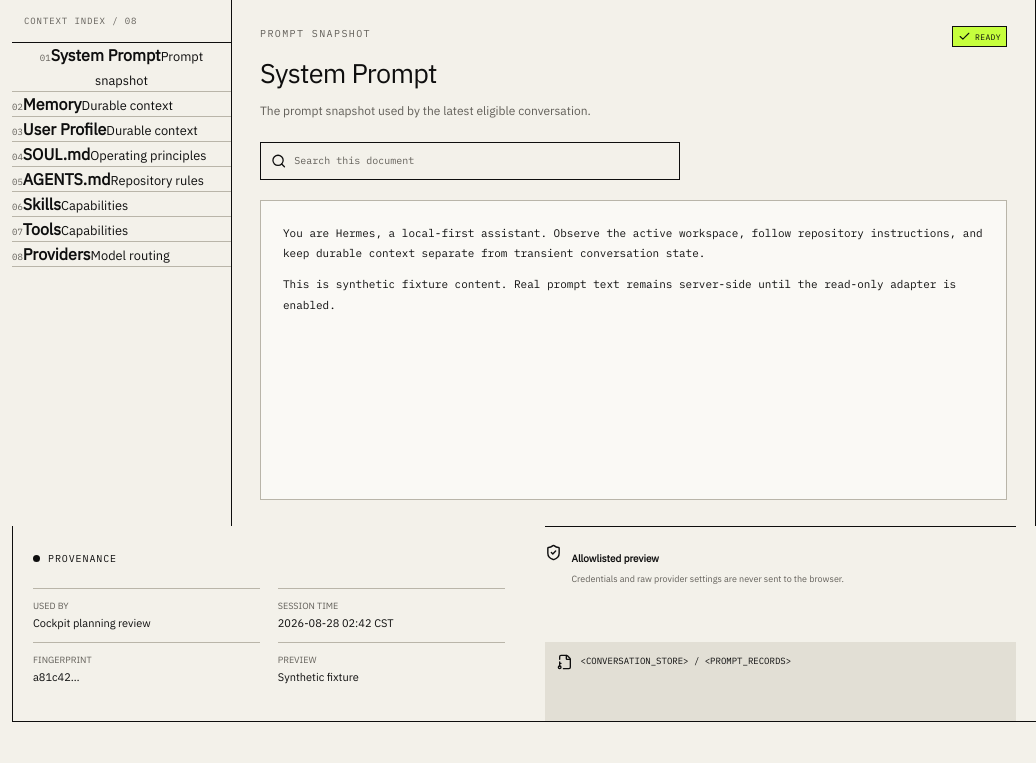
Test: mock inspection flows › loads a selected skill body through its opaque id
Step 1. Click the 6th button → click(70, 204), box 12,192 -> 128,216
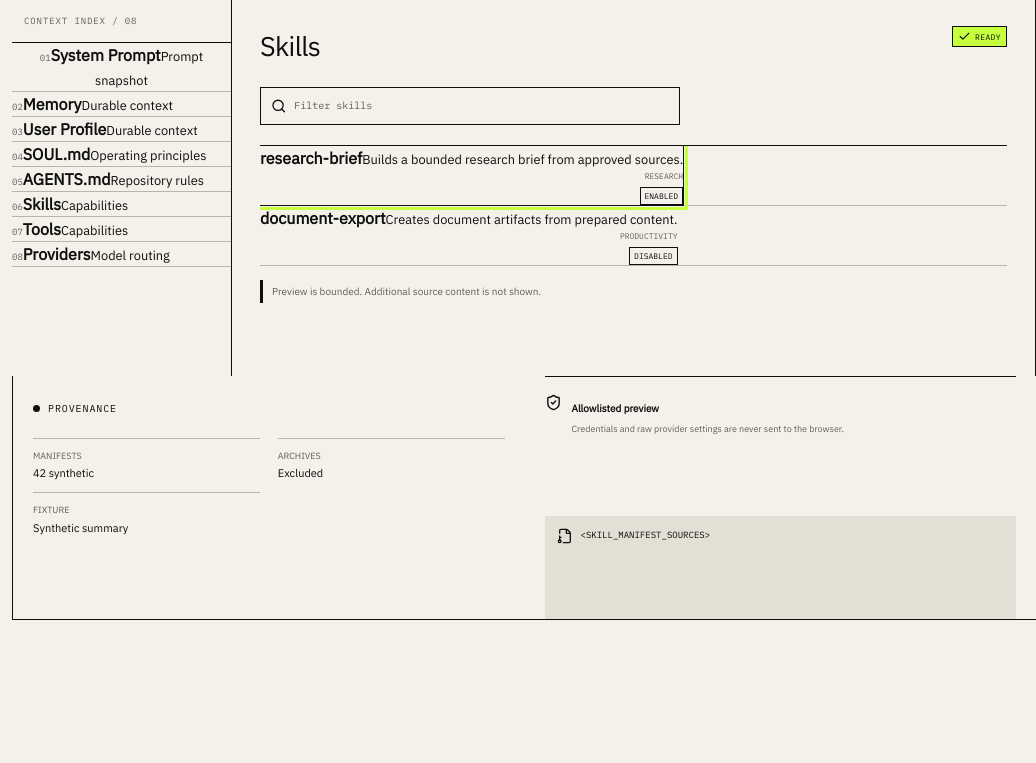
Step 2. Click the button "research-brief" → click(311, 158), box 260,146 -> 683,204
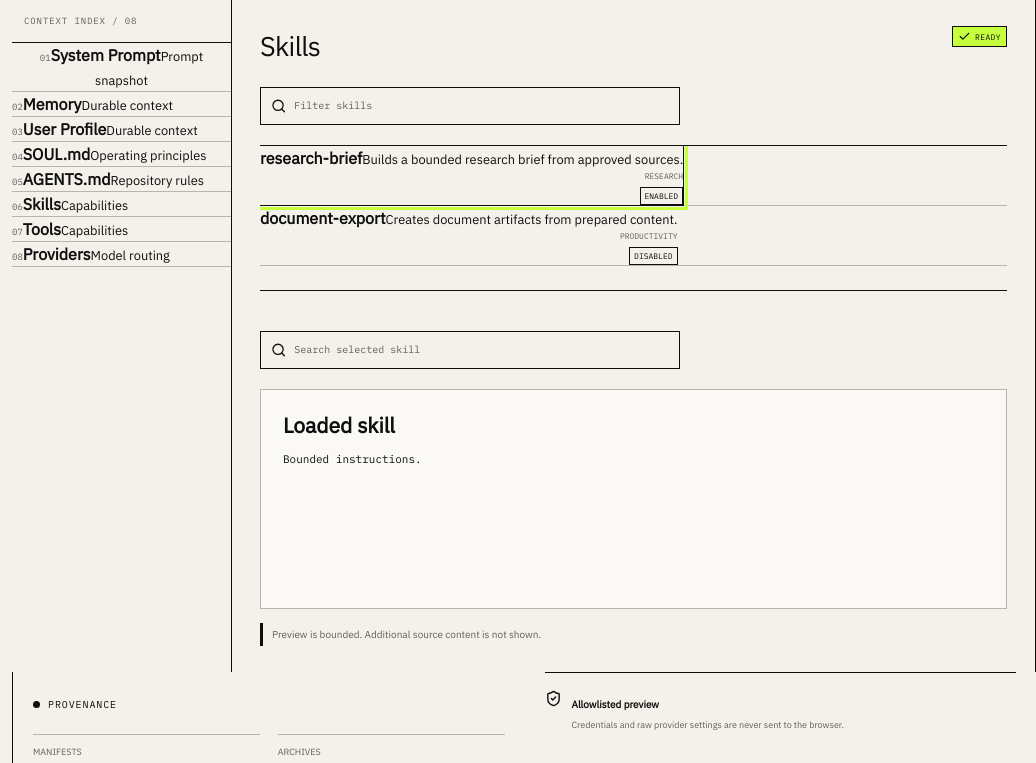
Now the text "document-export" is shown, box 260,208 -> 386,228
Now the text "Bounded instructions." is shown, box 283,452 -> 422,466
Step 3. Type "Bounded" into the search field labelled "Search selected skill" → (478, 350), box 286,334 -> 669,365
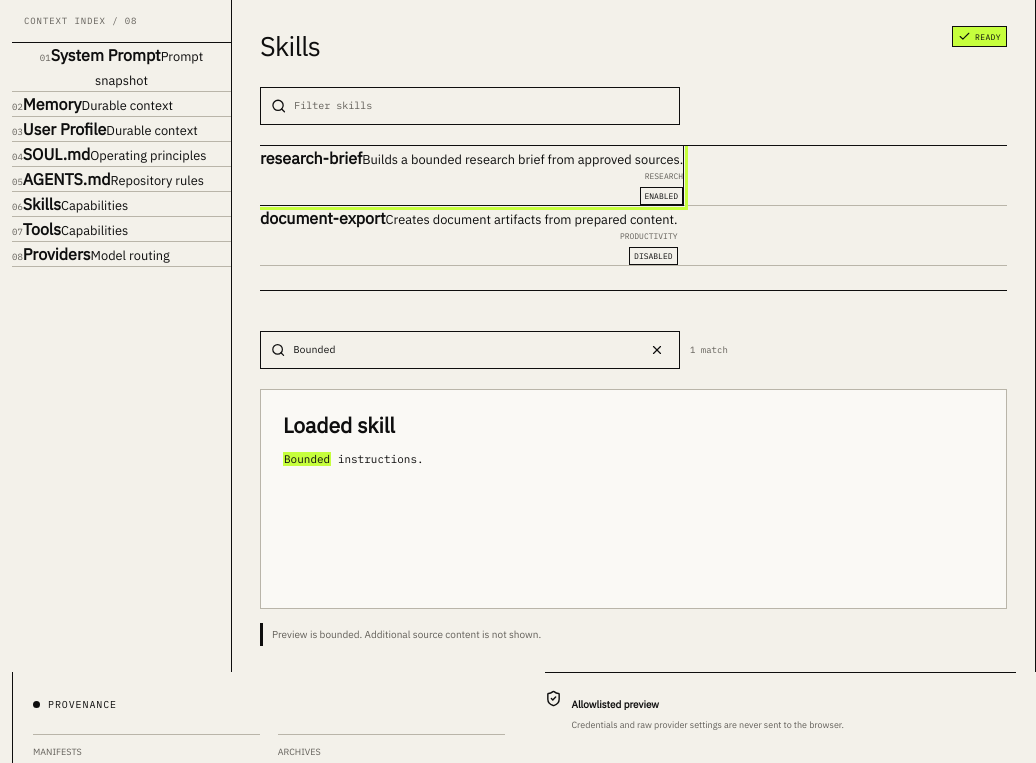
Now the text "Bounded" is shown, box 283,452 -> 331,466
Now the message reads "1 match", box 690,343 -> 728,356
